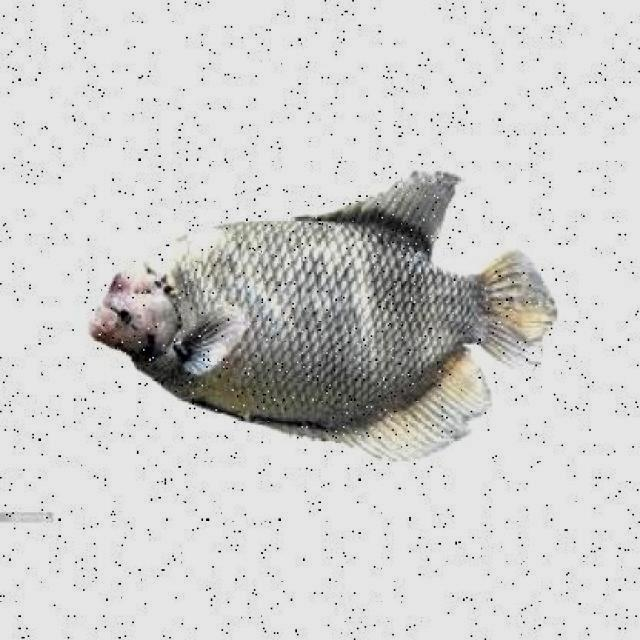gurame: (90, 190, 541, 459)
